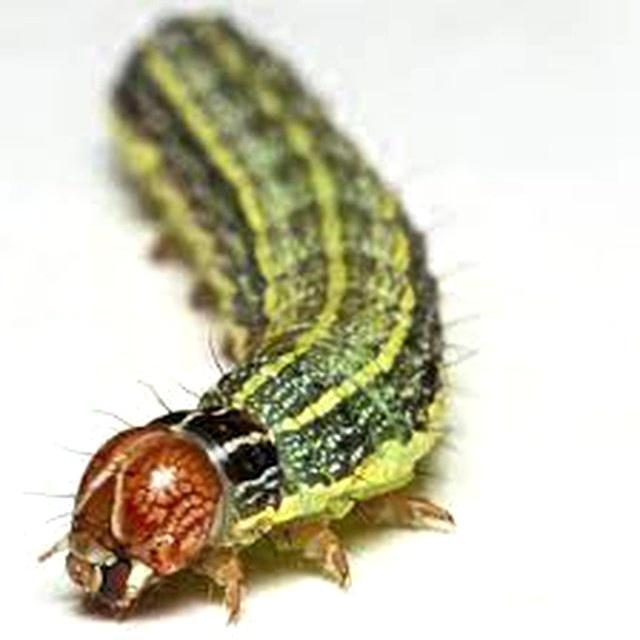gusano_cogollero: (52, 5, 460, 626)
